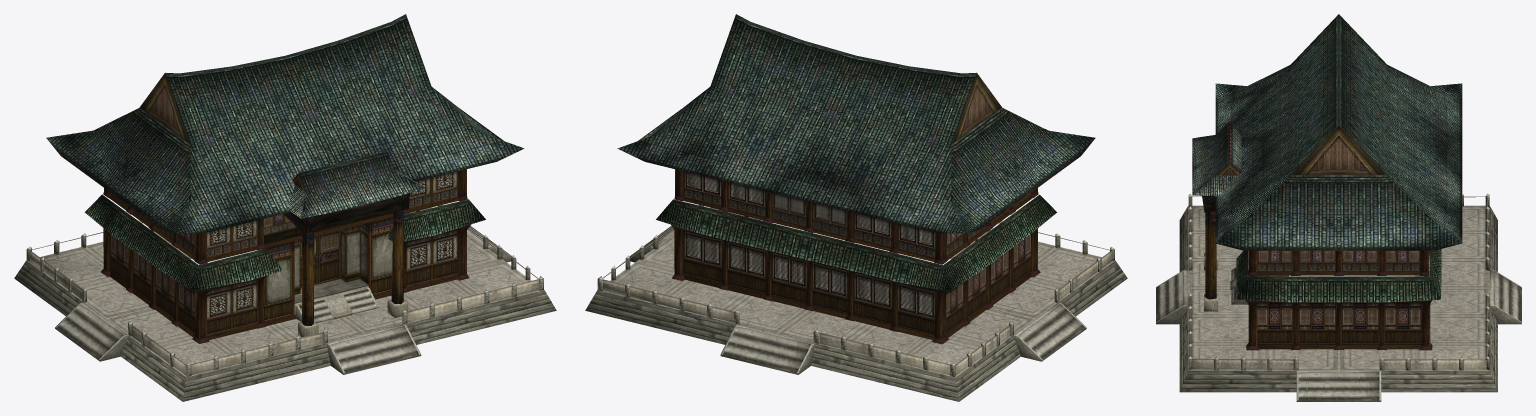
File: c1-010-bank_lod_01.glb
3 renders of one model, left to right at view 1: azimuth 30°, elevation 25°; view 2: azimuth 150°, elevation 25°; view 3: azimuth 270°, elevation 25°, orthographic. The views are drawn at different scales.
Visible parts, largest first — view 1: c1-010-bank-01, c1-010-bank-03, c1-010-bank-02, c1-010-bank-04; view 2: c1-010-bank-01, c1-010-bank-03, c1-010-bank-02, c1-010-bank-04; view 3: c1-010-bank-01, c1-010-bank-03, c1-010-bank-02, c1-010-bank-04.
Boxes of the visible parts, x1=… form: c1-010-bank-01: x1=46, y1=14, x2=524, y2=343; c1-010-bank-03: x1=14, y1=151, x2=556, y2=401; c1-010-bank-02: x1=26, y1=171, x2=543, y2=376; c1-010-bank-04: x1=84, y1=194, x2=485, y2=321; c1-010-bank-01: x1=617, y1=14, x2=1095, y2=344; c1-010-bank-03: x1=585, y1=195, x2=1127, y2=401; c1-010-bank-02: x1=597, y1=171, x2=1114, y2=377; c1-010-bank-04: x1=656, y1=194, x2=1056, y2=291; c1-010-bank-01: x1=1215, y1=14, x2=1462, y2=350; c1-010-bank-03: x1=1156, y1=121, x2=1521, y2=401; c1-010-bank-02: x1=1188, y1=193, x2=1489, y2=370; c1-010-bank-04: x1=1236, y1=249, x2=1441, y2=302.
Size of the model in its own units: 24.99 by 14.43 by 20.19.
Materials: 4 (4 with a texture image).
